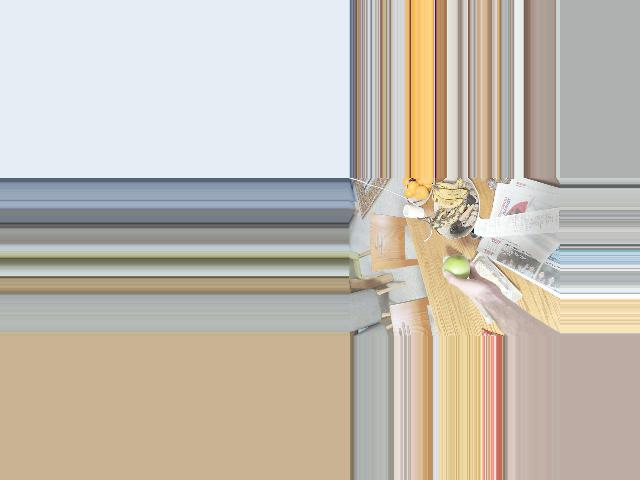apple: (441, 254, 474, 283)
